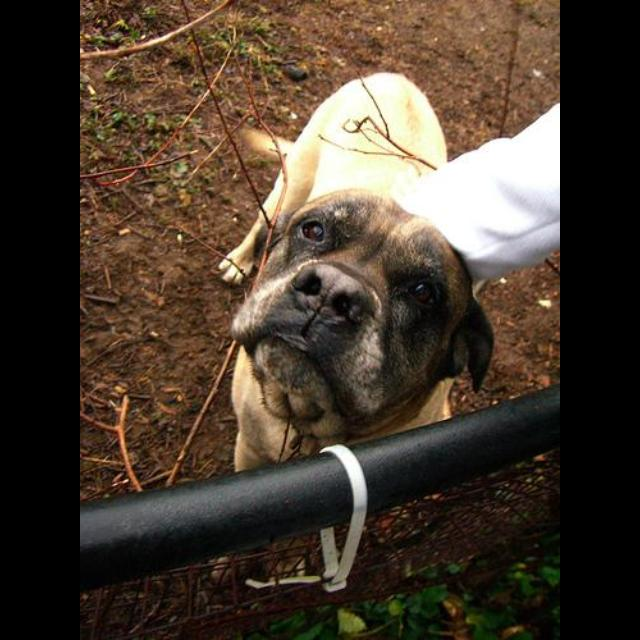bullmastiff: (208, 74, 498, 583)
